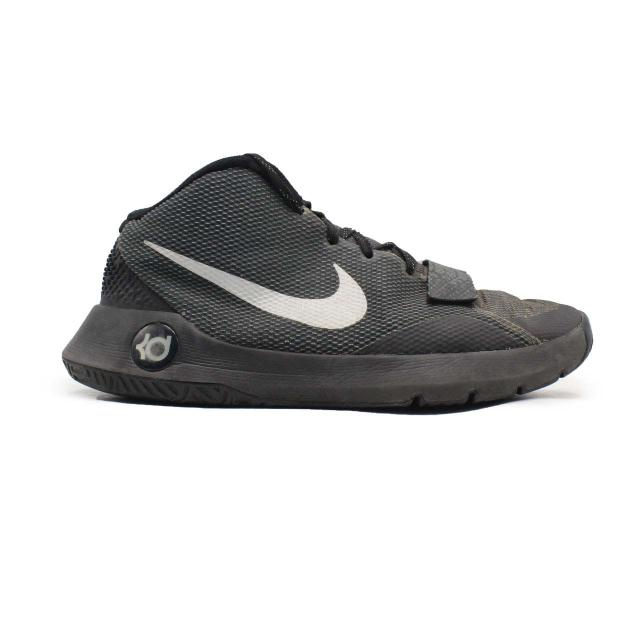heel: (104, 185, 186, 309)
midsole: (61, 304, 592, 411)
uppersole: (172, 158, 580, 357)
